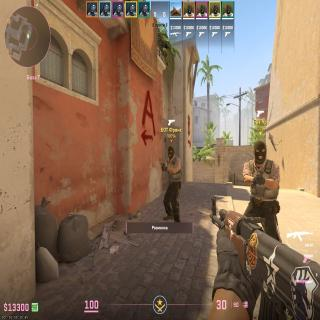T-Body: (242, 140, 281, 242), (164, 146, 182, 222)
T-Head: (254, 141, 266, 162), (168, 146, 174, 158)
